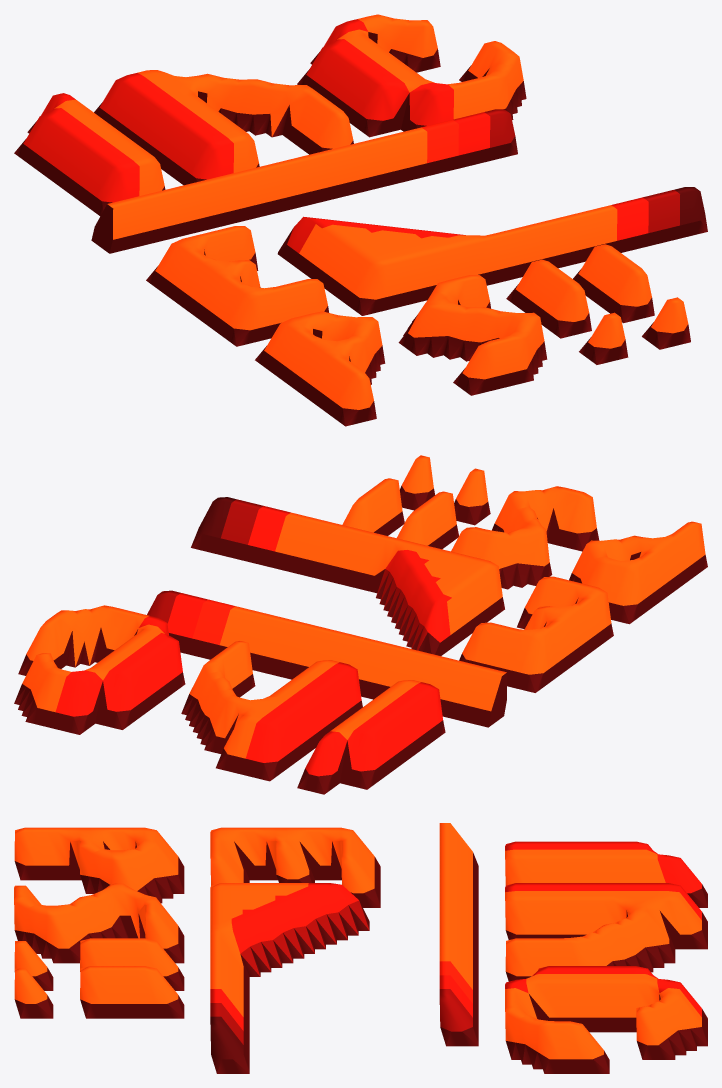
Rendered from missile_sign_right.glb.
3 views of the same model, one above another, from view 1: azimuth 30°, elevation 25°; view 2: azimuth 150°, elevation 25°; view 3: azimuth 270°, elevation 25° (orthographic). The views are drawn at different scales.
Visible parts, largest first — view 1: missile_sign_right; view 2: missile_sign_right; view 3: missile_sign_right.
Part boxes in pixels (x1,y1,x2,y2): missile_sign_right: [14, 14, 707, 426]; missile_sign_right: [14, 455, 707, 794]; missile_sign_right: [14, 823, 707, 1073].
Size of the model in its own units: 15 by 1.5 by 21.2.
